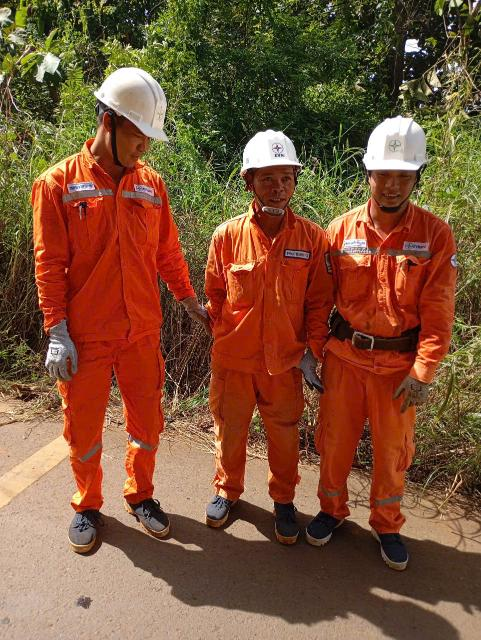gloves: (31, 318, 90, 391), (177, 288, 220, 343), (391, 366, 440, 411), (291, 349, 336, 392)
harness: (329, 304, 433, 366)
helmet: (86, 47, 184, 143), (351, 102, 435, 170), (232, 117, 306, 183)
shoes: (120, 491, 180, 542), (62, 502, 110, 552), (187, 492, 241, 536), (297, 497, 342, 549), (373, 518, 413, 571), (266, 497, 300, 551)
